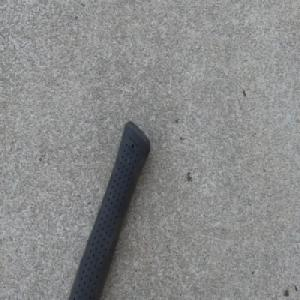Hammer: (65, 119, 152, 300)
